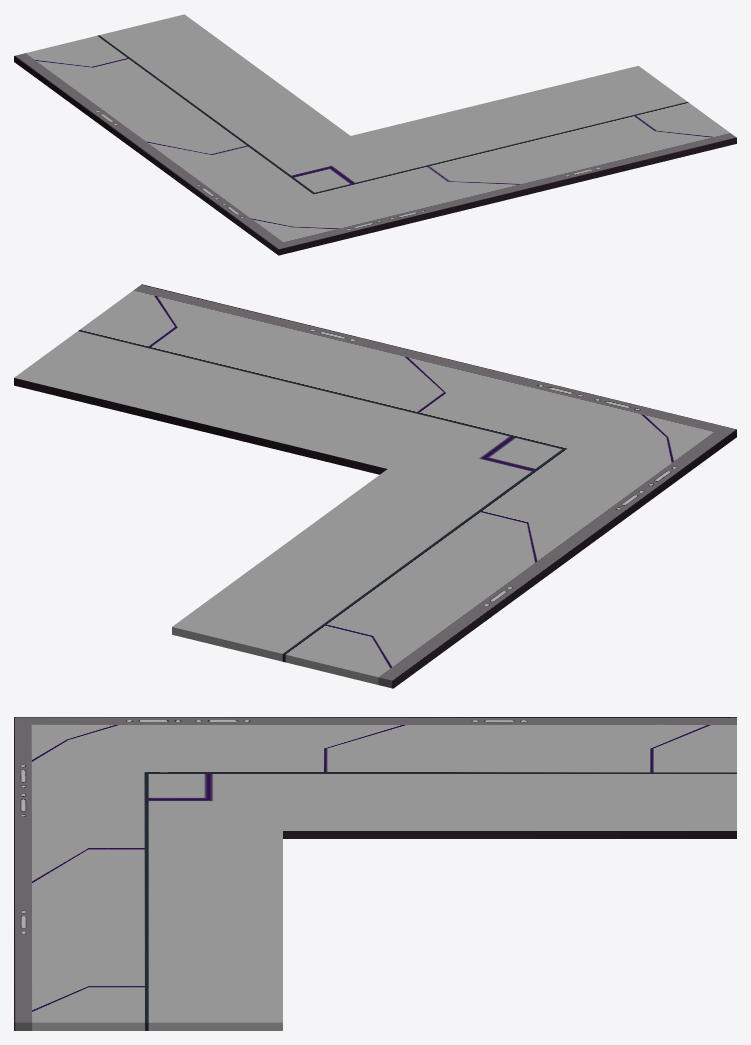
The model's file is KF_SM_LSideW006.fbx.
The picture shows the model from 3 angles, top to bottom: view 1: azimuth 30°, elevation 25°; view 2: azimuth 150°, elevation 25°; view 3: azimuth 270°, elevation 25°; orthographic projection. The views are drawn at different scales.
Parts seen in each view (by area): view 1: KF_SM_LSideW006; view 2: KF_SM_LSideW006; view 3: KF_SM_LSideW006.
Boxes of the visible parts, x1,y1,x2,y2 form: KF_SM_LSideW006: (14, 14, 736, 255); KF_SM_LSideW006: (14, 284, 736, 688); KF_SM_LSideW006: (14, 717, 736, 1030).
Size of the model in its own units: 4014 by 50 by 4014.
1 material, 1 textured.
